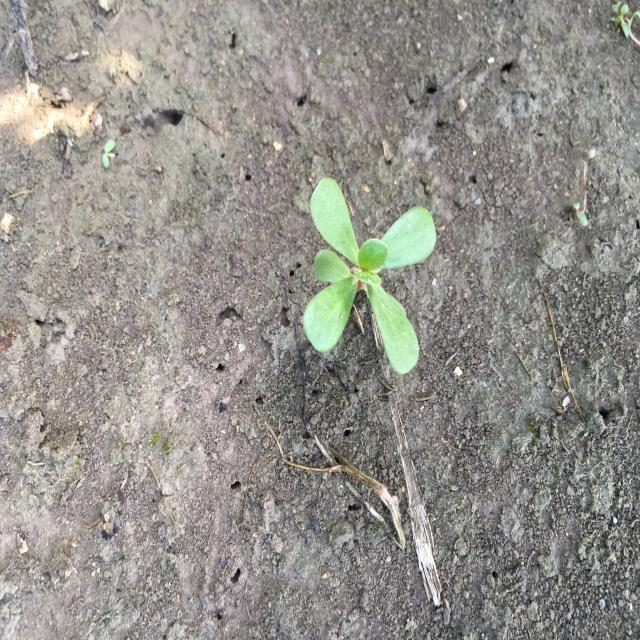Purslane: (300, 173, 439, 379)
